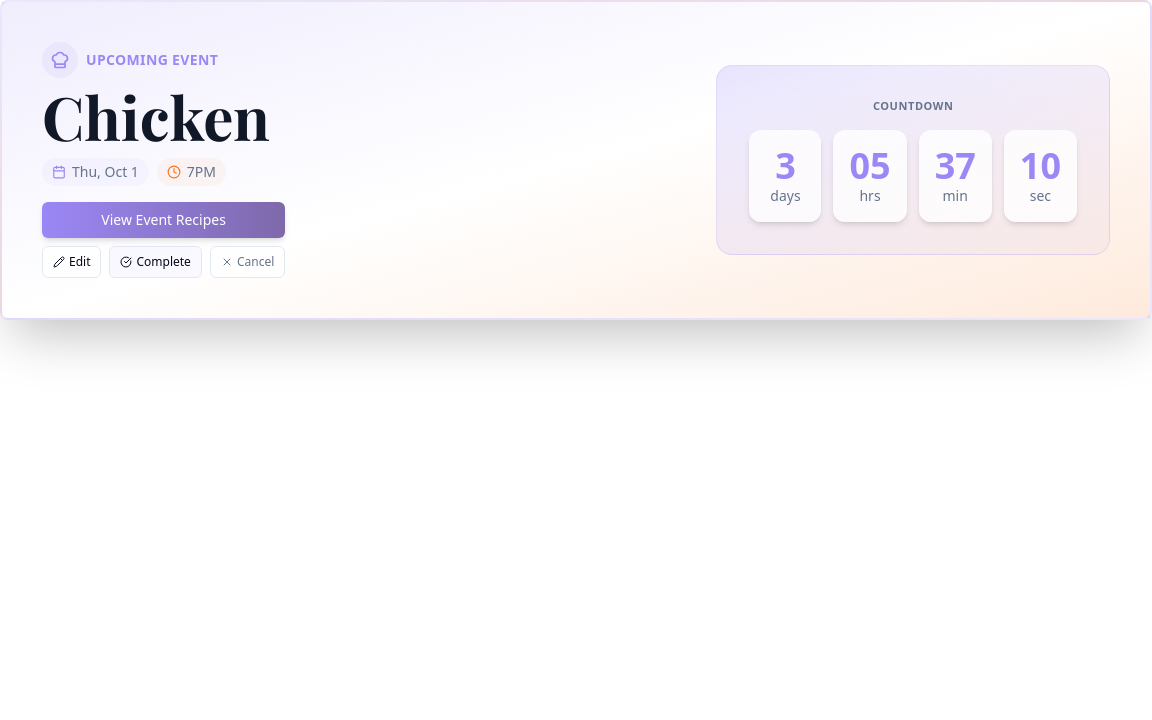
Scenario: CountdownCard › opens complete confirmation when Complete is clicked
What coordinates should you click on to do the following:
click the button "Complete"
I would click on:
 (156, 262)
Its box is [110, 246, 202, 278].
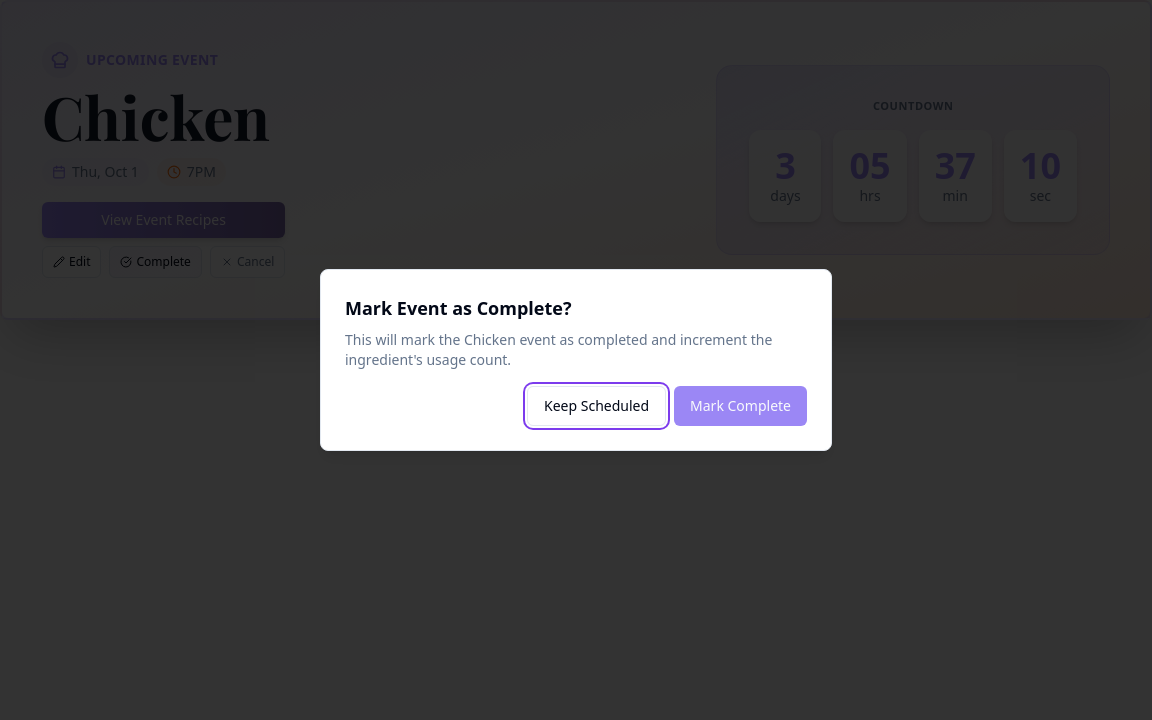
Now the heading "Mark Event as Complete?" is shown, box [345, 296, 572, 320]
Now the text "This will mark the Chicken event as completed" is shown, box [345, 330, 807, 370]
